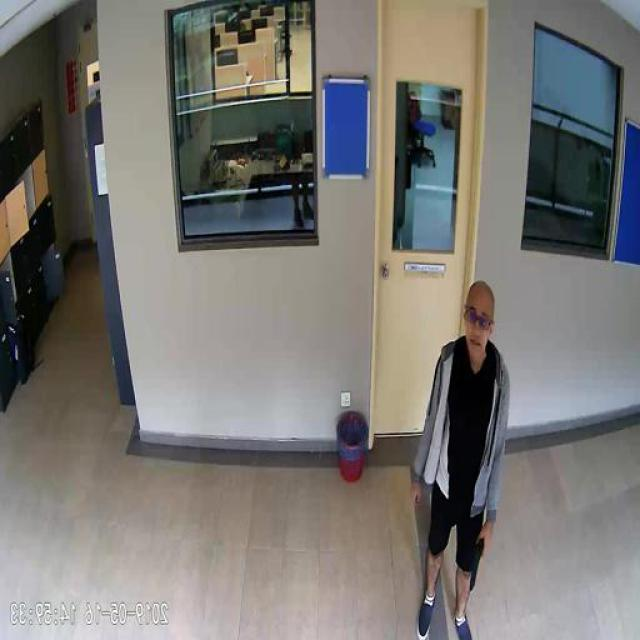Gun: (472, 531, 488, 589)
